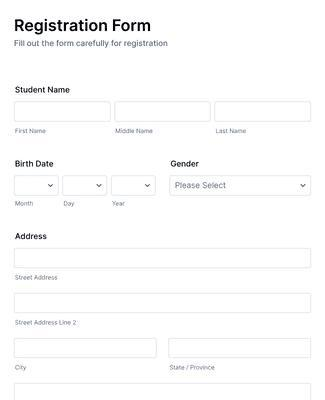dropdown: (169, 177, 312, 197), (14, 176, 60, 197), (113, 176, 156, 196), (63, 177, 108, 195)
input: (15, 293, 312, 314), (16, 250, 312, 268), (16, 339, 157, 359), (168, 340, 313, 359), (215, 102, 312, 123), (117, 102, 211, 123), (15, 102, 112, 122)
label: (14, 19, 153, 38), (14, 85, 81, 98), (14, 319, 84, 330), (12, 270, 61, 285), (112, 125, 158, 138), (169, 364, 223, 375), (168, 158, 205, 173), (215, 125, 253, 138), (14, 231, 51, 244), (14, 159, 58, 169), (14, 127, 50, 138), (10, 200, 40, 211), (110, 199, 129, 212), (15, 361, 30, 375), (61, 198, 79, 209)
